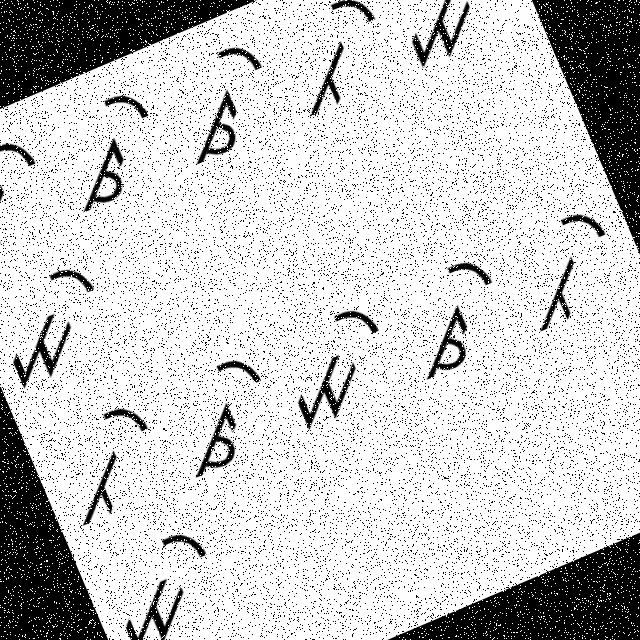bay: (34, 386, 178, 536), (502, 198, 638, 340), (267, 0, 412, 128), (0, 123, 73, 271)
cay: (149, 338, 294, 488), (382, 240, 527, 390), (155, 29, 297, 174), (44, 77, 180, 218)
may: (264, 290, 411, 436), (87, 510, 245, 639), (0, 247, 126, 397), (376, 0, 526, 81)
